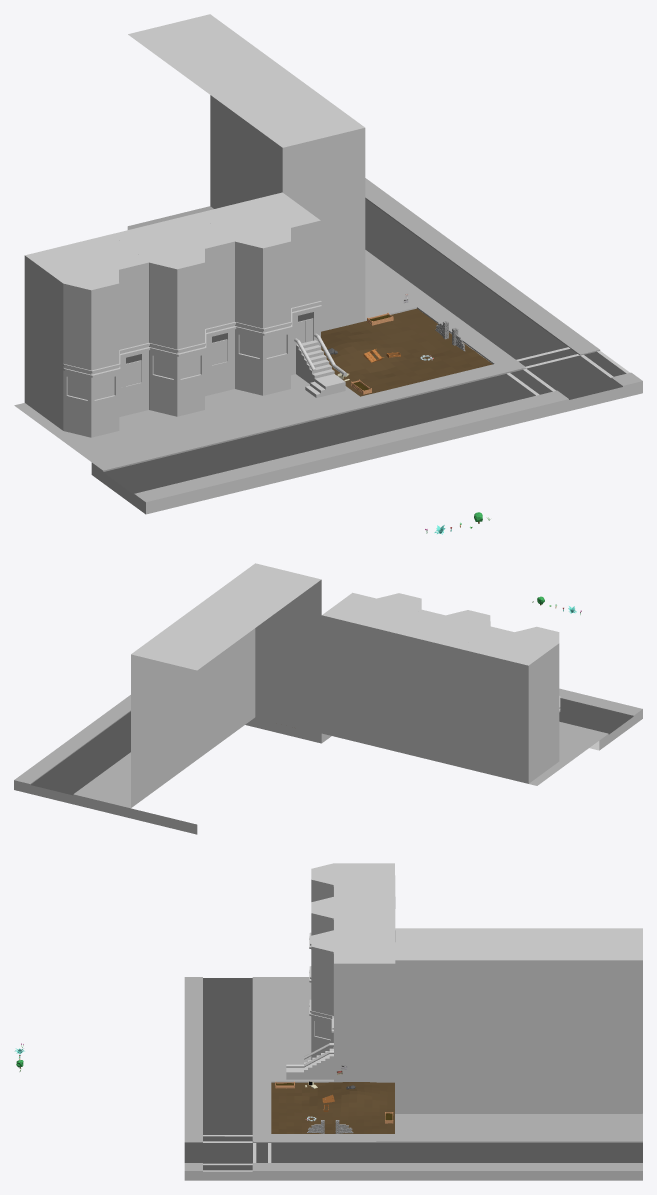
3 views of the same model, one above another, from view 1: azimuth 30°, elevation 25°; view 2: azimuth 150°, elevation 25°; view 3: azimuth 270°, elevation 25° (orthographic). The views are drawn at different scales.
Visible parts, largest first — view 1: City, Cube.004, Ground, Cube.006; view 2: City, Cube.004; view 3: City, Cube.004, Ground, Cube.006.
Part boxes in pixels (x1,y1,x2,y2): City: (14, 14, 642, 514); Cube.004: (24, 192, 322, 437); Ground: (321, 308, 492, 396); Cube.006: (296, 340, 345, 397); City: (14, 563, 642, 834); Cube.004: (321, 592, 560, 783); City: (184, 928, 642, 1180); Cube.004: (309, 863, 395, 1081); Ground: (271, 1082, 394, 1133); Cube.006: (286, 1048, 333, 1079).
Bounding box in the file's own units: 74 × 29.13 × 102.
30 materials, 2 textured.
